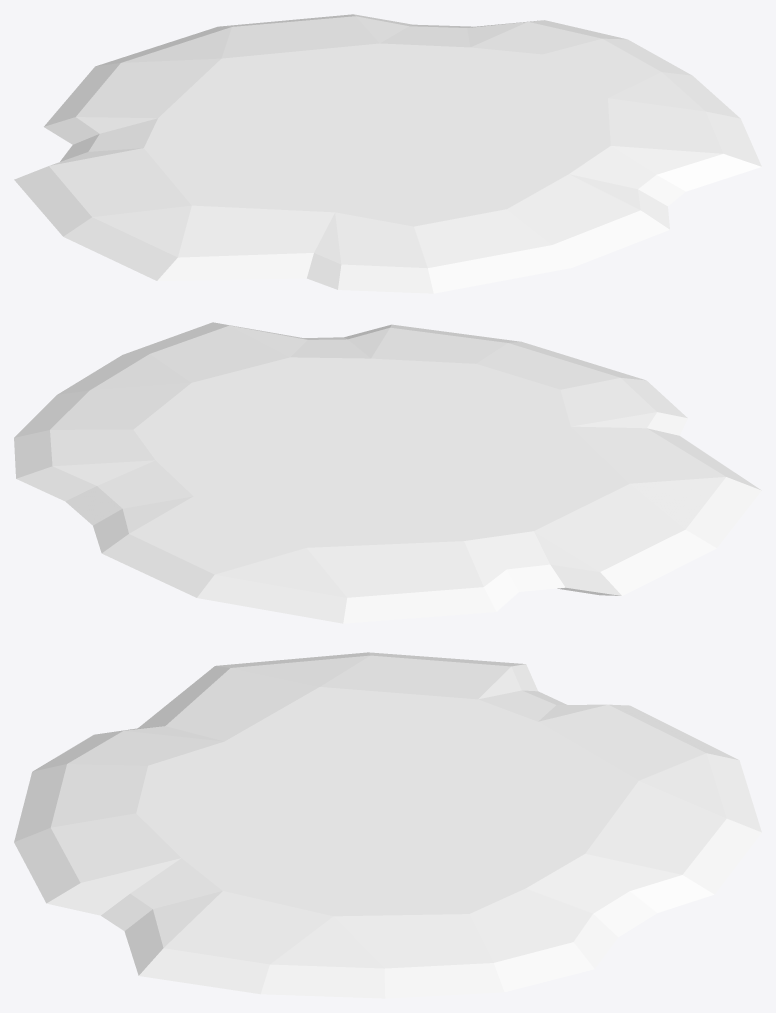
File: SM_Prop_Coral_11.glb
The picture shows the model from 3 angles, top to bottom: view 1: azimuth 30°, elevation 25°; view 2: azimuth 150°, elevation 25°; view 3: azimuth 270°, elevation 25°; orthographic projection. The views are drawn at different scales.
Parts seen in each view (by area): view 1: SM_Prop_Coral_11; view 2: SM_Prop_Coral_11; view 3: SM_Prop_Coral_11.
Boxes of the visible parts, box(x1,y1,x2,y2) form: SM_Prop_Coral_11: box(14, 14, 761, 293); SM_Prop_Coral_11: box(14, 322, 761, 623); SM_Prop_Coral_11: box(14, 652, 761, 998).
Size of the model in its own units: 0.9798 by 0.0589 by 0.8943.
1 material, 1 textured.
